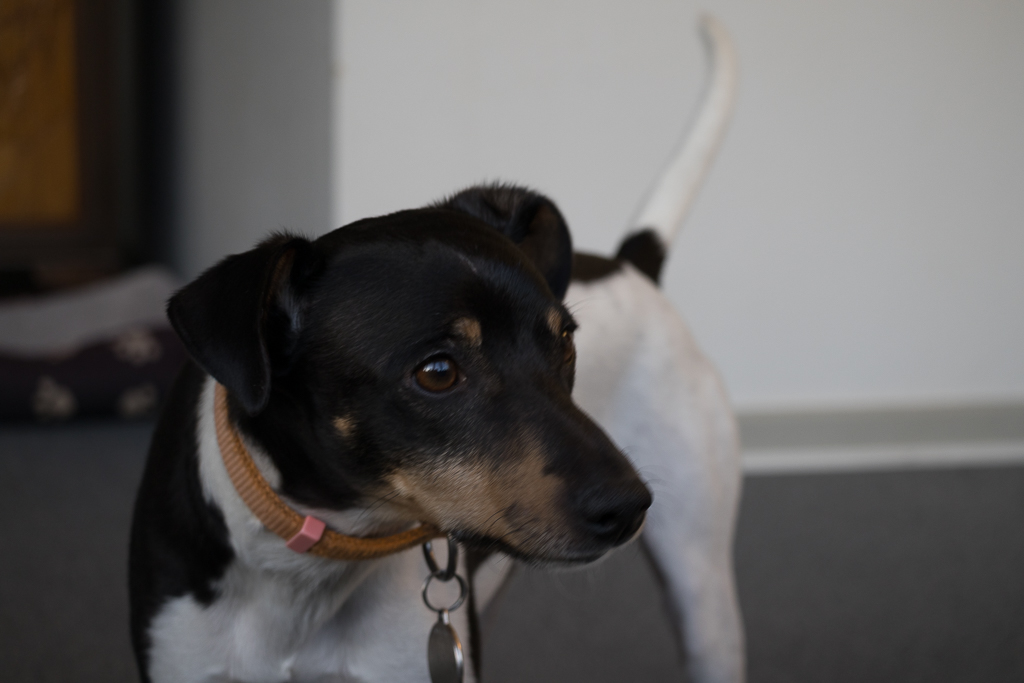Dog: (107, 7, 770, 683)
